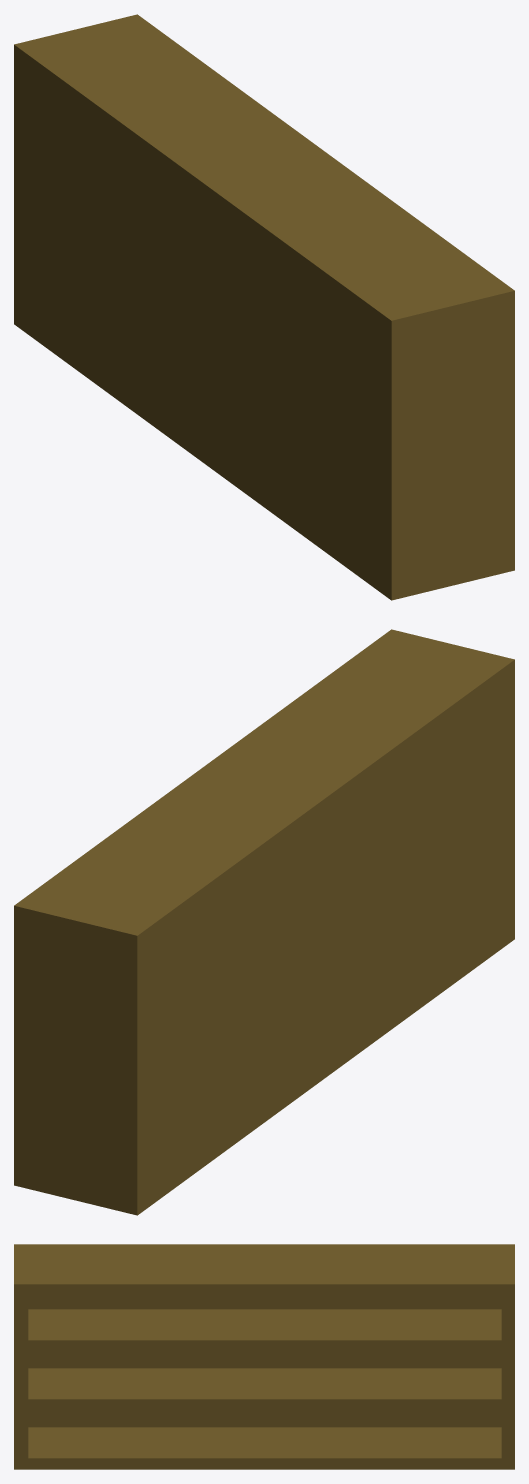
The model's file is ShelfWall.fbx.
3 renders of one model, top to bottom at view 1: azimuth 30°, elevation 25°; view 2: azimuth 150°, elevation 25°; view 3: azimuth 270°, elevation 25°, orthographic. The views are drawn at different scales.
Parts seen in each view (by area): view 1: Shelf; view 2: Shelf; view 3: Shelf.
Boxes of the visible parts, box(x1,y1,x2,y2) form: Shelf: box(14, 14, 514, 600); Shelf: box(14, 629, 514, 1215); Shelf: box(14, 1244, 514, 1469).
Size of the model in its own units: 4.4 by 9.52 by 23.27.
